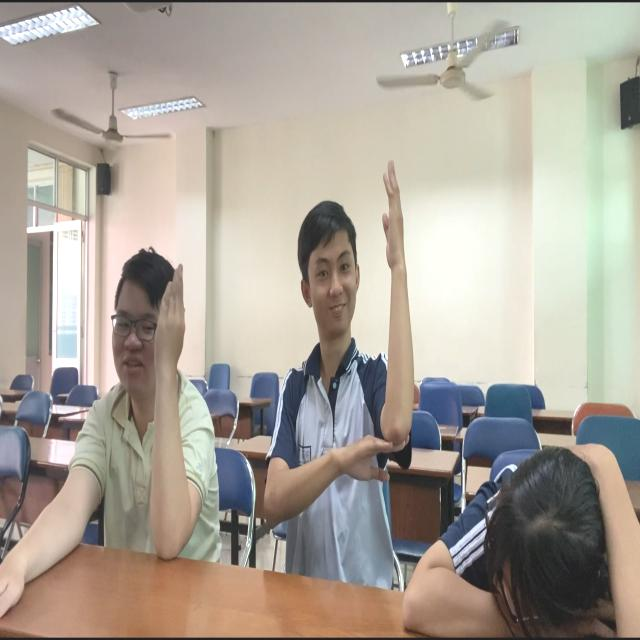raise_hand: (258, 155, 421, 582), (62, 248, 228, 560)
sleep: (427, 441, 640, 640)
